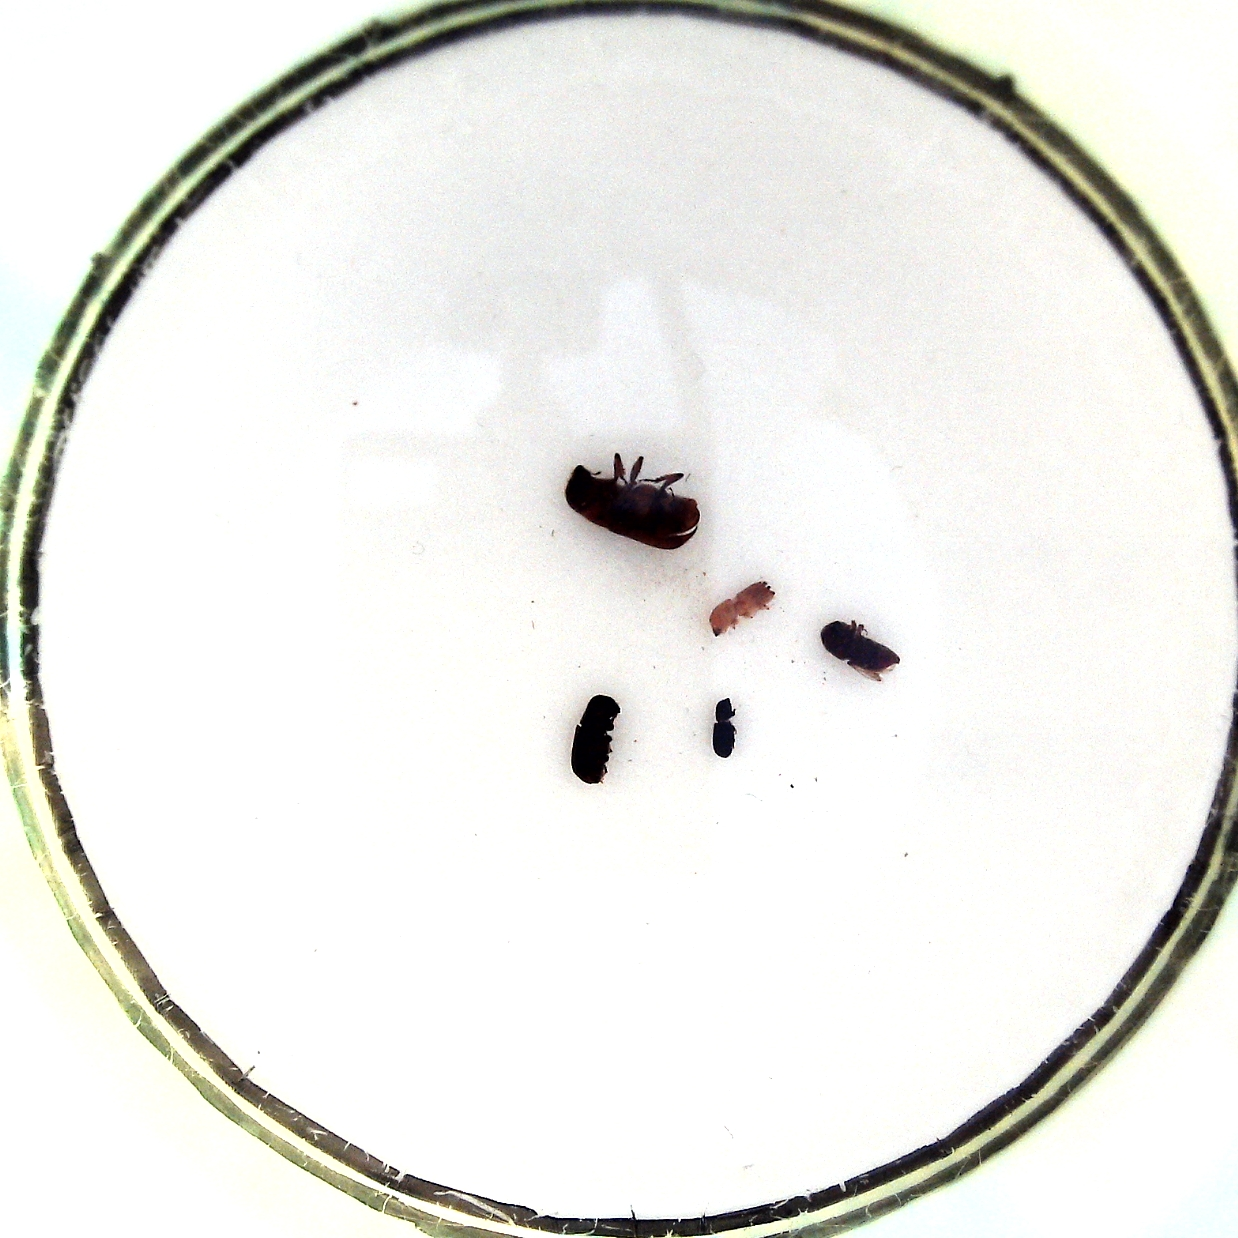Leconte: (561, 455, 704, 556)
Linnaeus: (820, 614, 904, 682)
acuminatus: (707, 578, 777, 641)
armandi: (563, 692, 624, 789)
coleoptera: (709, 692, 740, 761)
